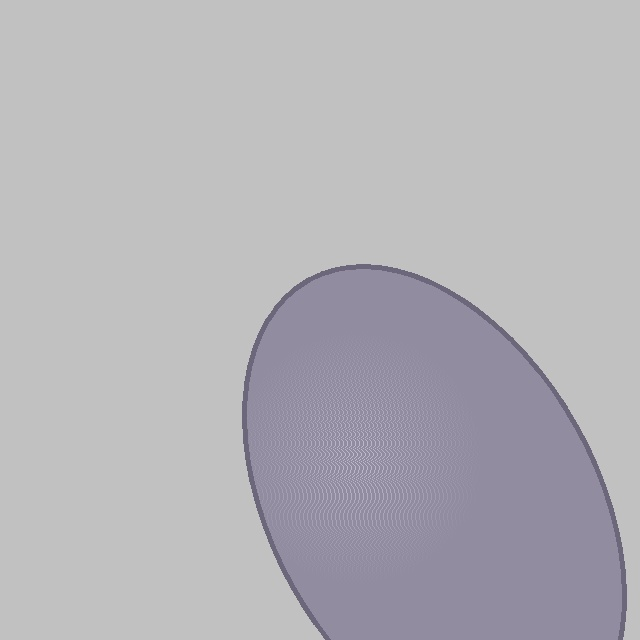lens: (244, 267, 624, 640)
